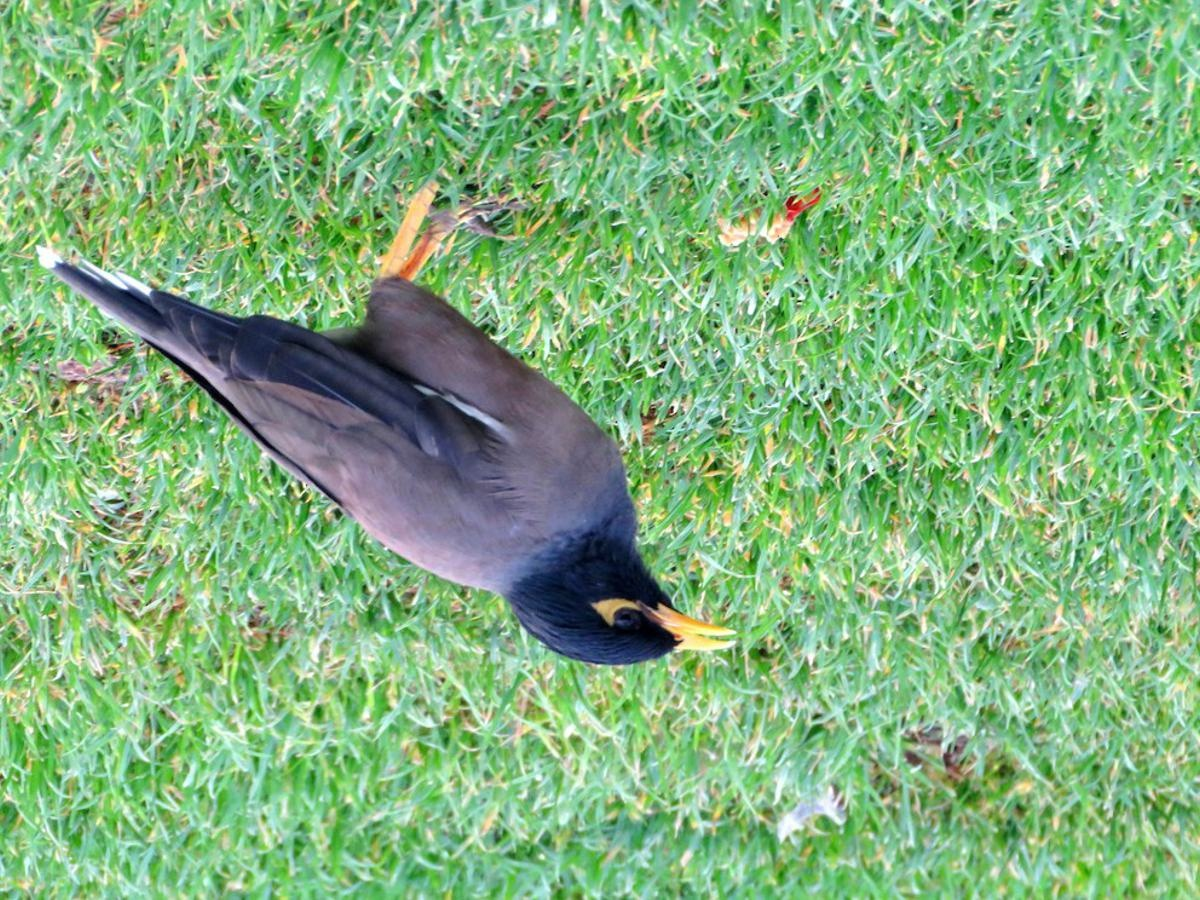myna: (35, 187, 735, 672)
